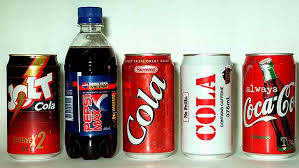can: (6, 38, 63, 163), (182, 46, 238, 162), (244, 48, 299, 160), (123, 48, 173, 159)
